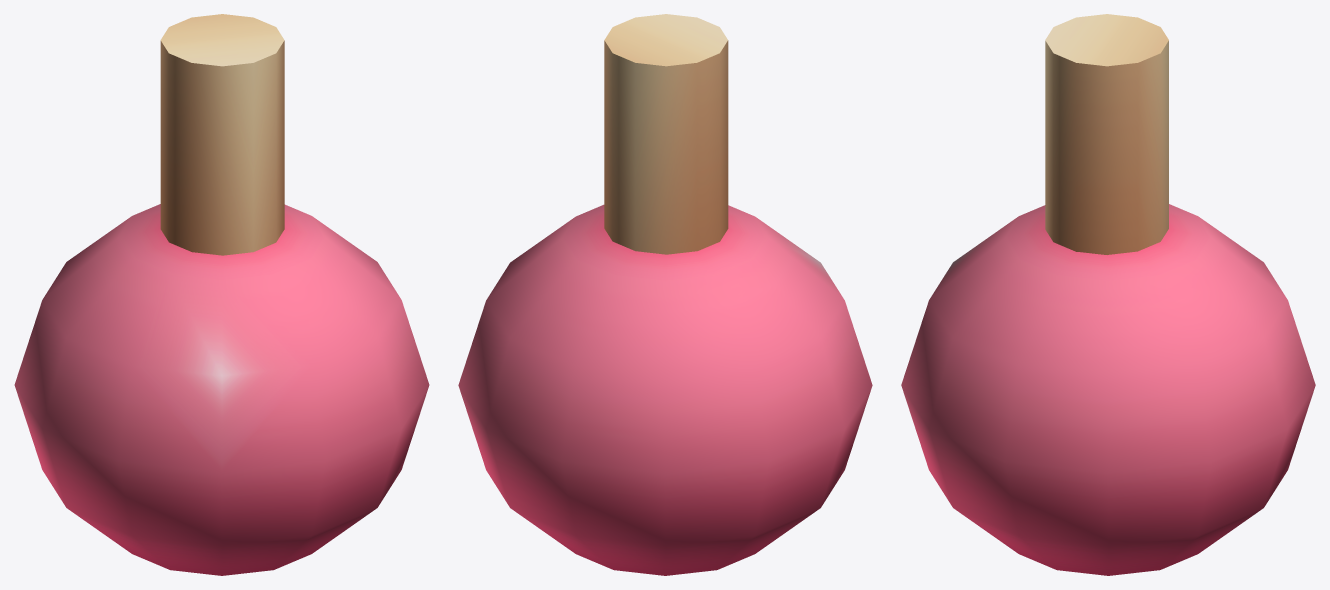
The model's file is Doll_OB_Vanity_001_5.fbx.
3 renders of one model, left to right at view 1: azimuth 30°, elevation 25°; view 2: azimuth 150°, elevation 25°; view 3: azimuth 270°, elevation 25°, orthographic.
Visible parts, largest first — view 1: Doll_OB_Vanity_001_5; view 2: Doll_OB_Vanity_001_5; view 3: Doll_OB_Vanity_001_5.
Part boxes in pixels (box(x1,y1,x2,y2)): Doll_OB_Vanity_001_5: box(14, 14, 429, 575); Doll_OB_Vanity_001_5: box(458, 14, 872, 575); Doll_OB_Vanity_001_5: box(901, 14, 1315, 575).
Size of the model in its own units: 4.86 by 6.66 by 4.86.
